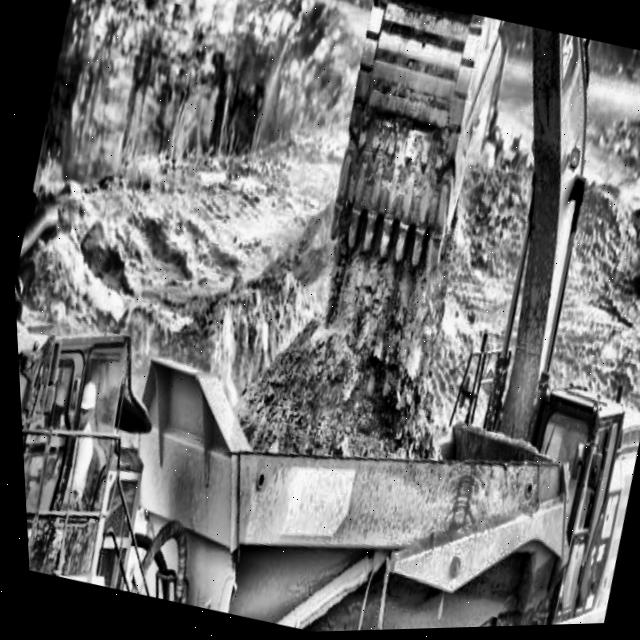dump_truck: (11, 260, 621, 640)
